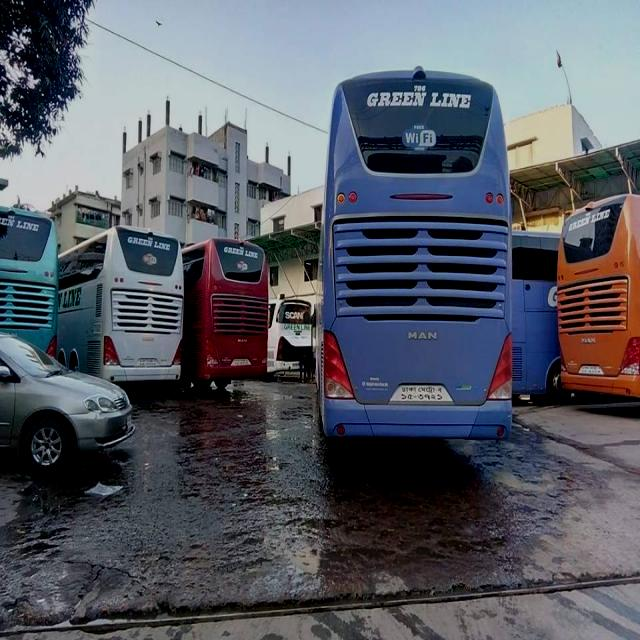bus: (317, 68, 514, 442), (57, 225, 187, 381)
